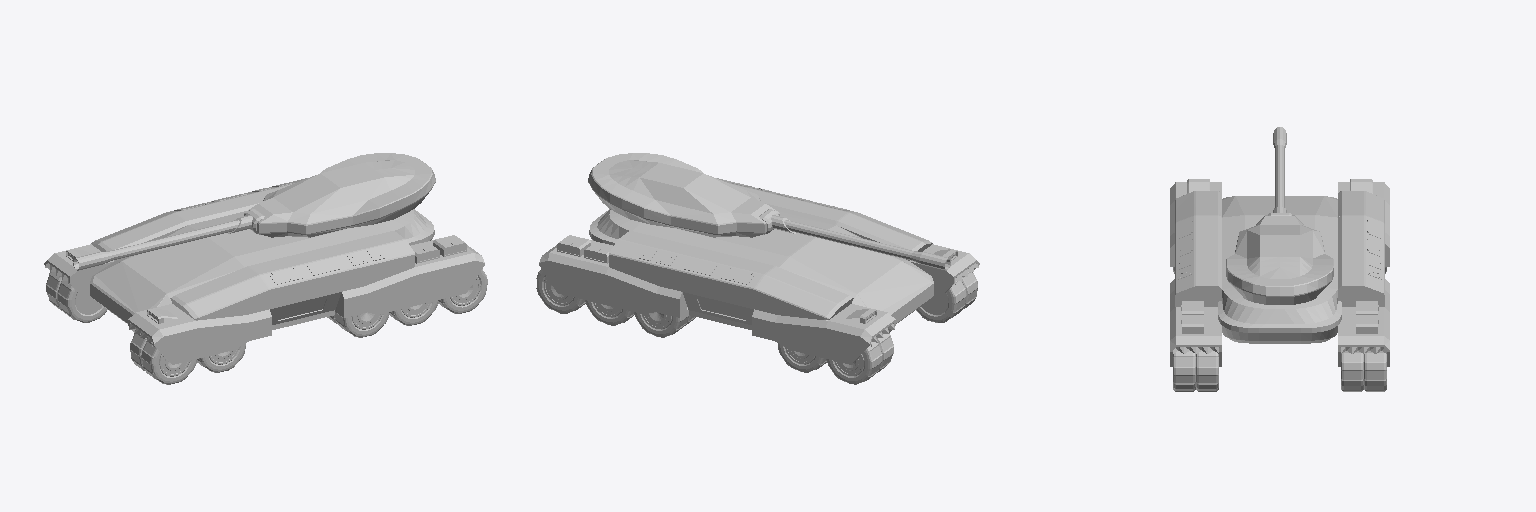
Rendered from TankCuTexturi.obj.
3 views of the same model, side by side, from view 1: azimuth 30°, elevation 25°; view 2: azimuth 150°, elevation 25°; view 3: azimuth 270°, elevation 25° (orthographic).
Parts seen in each view (by area): view 1: tank_body001, tank_head, Weapon, Wheel004, Wheel019, Wheel002, Wheel, Wheel003, Wheel001; view 2: tank_body001, tank_head, Weapon, Wheel014, Wheel009, Wheel010, Wheel012, Wheel013, Wheel011; view 3: tank_body001, tank_head, Weapon, Wheel, Wheel005, Wheel010, Wheel015.
Part boxes in pixels (x1,y1,x2,y2): tank_body001: (44,178,484,364); tank_head: (244,153,435,237); Weapon: (73,209,264,270); Wheel004: (141,342,196,384); Wheel019: (57,281,106,322); Wheel002: (335,307,388,337); Wheel: (438,269,487,313); Wheel003: (197,343,245,372); Wheel001: (389,300,437,325); tank_body001: (539,178,979,364); tank_head: (588,153,779,237); Weapon: (759,209,950,270); Wheel014: (826,342,882,384); Wheel009: (916,281,966,322); Wheel010: (536,269,585,313); Wheel012: (634,307,688,337); Wheel013: (778,343,826,372); Wheel011: (585,300,634,325); tank_body001: (1170,179,1389,366); tank_head: (1226,215,1333,304); Weapon: (1268,127,1291,215); Wheel: (1173,351,1195,391); Wheel005: (1196,351,1218,391); Wheel010: (1364,351,1386,391); Wheel015: (1341,351,1363,391).
Size of the model in its own units: 218 by 66.22 by 116.